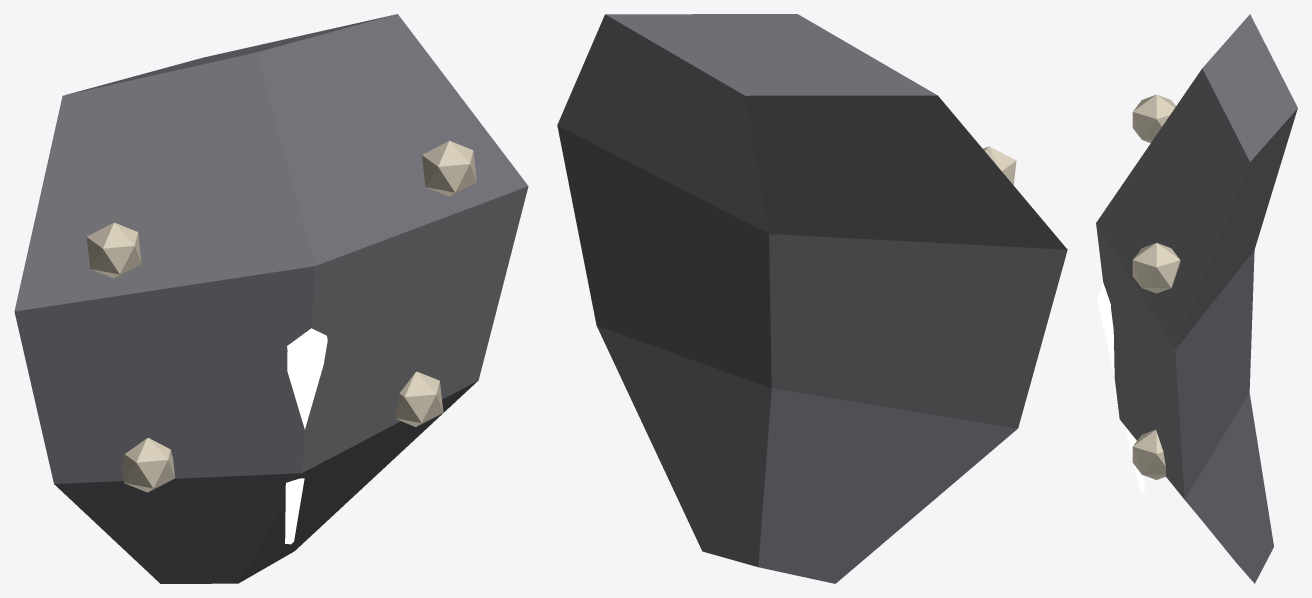
Rendered from broad-chest.glb.
3 renders of one model, left to right at view 1: azimuth 30°, elevation 25°; view 2: azimuth 150°, elevation 25°; view 3: azimuth 270°, elevation 25°, orthographic. The views are drawn at different scales.
Parts seen in each view (by area): view 1: broad_chest; view 2: broad_chest; view 3: broad_chest.
Part boxes in pixels (x1,y1,x2,y2): broad_chest: (14,14,528,583); broad_chest: (557,14,1067,583); broad_chest: (1096,14,1297,583).
Bounding box in the file's own units: 0.23 × 0.2329 × 0.0864.
